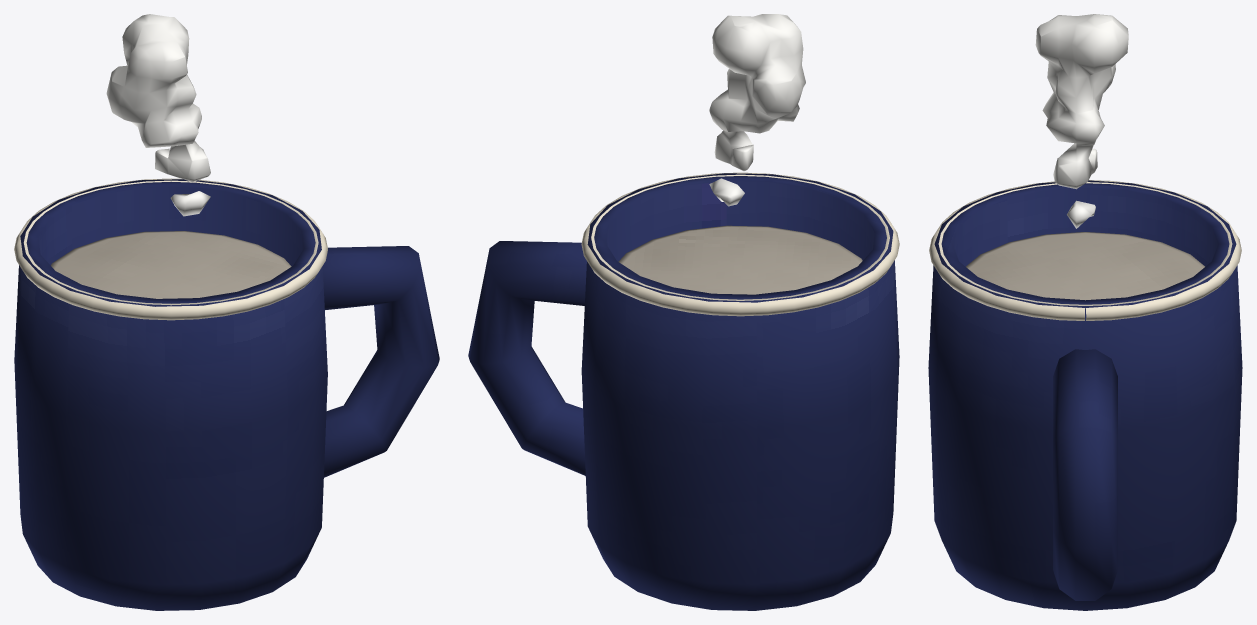
Rendered from mug_milk.glb.
3 views of the same model, side by side, from view 1: azimuth 30°, elevation 25°; view 2: azimuth 150°, elevation 25°; view 3: azimuth 270°, elevation 25° (orthographic).
Visible parts, largest first — view 1: mug_milk_felt_navy2, mug_milk_felt_cream, mug_milk_steam8, mug_milk_thread; view 2: mug_milk_felt_navy2, mug_milk_felt_cream, mug_milk_steam8, mug_milk_thread; view 3: mug_milk_felt_navy2, mug_milk_felt_cream, mug_milk_steam8, mug_milk_thread.
Part boxes in pixels (<box>): mug_milk_felt_navy2: <box>14,179,439,610</box>; mug_milk_felt_cream: <box>51,231,291,298</box>; mug_milk_steam8: <box>106,14,210,216</box>; mug_milk_thread: <box>14,178,327,320</box>; mug_milk_felt_navy2: <box>468,173,899,610</box>; mug_milk_felt_cream: <box>618,225,862,294</box>; mug_milk_steam8: <box>709,14,805,206</box>; mug_milk_thread: <box>581,172,899,316</box>; mug_milk_felt_navy2: <box>928,180,1242,610</box>; mug_milk_felt_cream: <box>966,232,1204,300</box>; mug_milk_steam8: <box>1035,14,1128,228</box>; mug_milk_thread: <box>929,180,1241,320</box>.
Bounding box in the file's own units: 0.192 × 0.2446 × 0.131.
4 materials, 2 textured.
